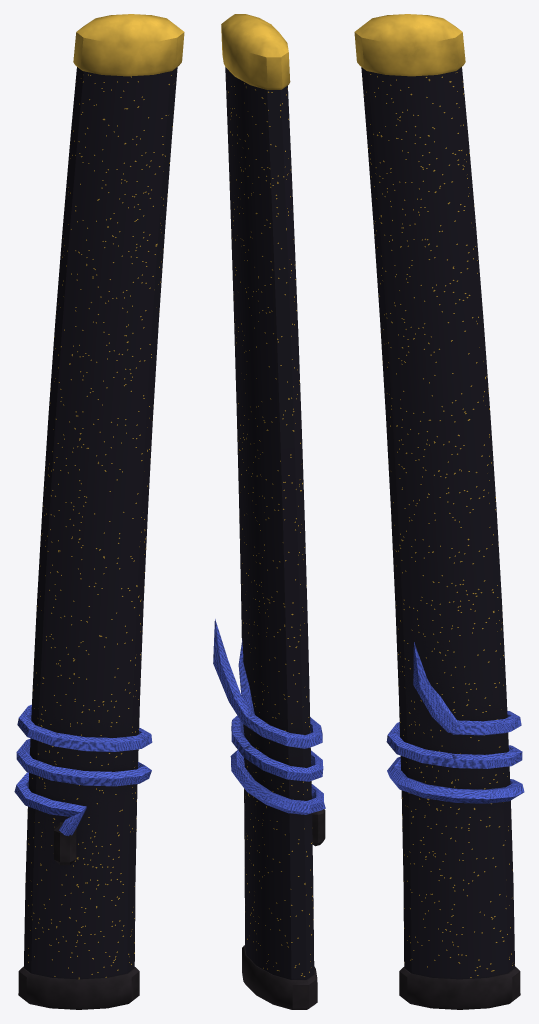
Rendered from katana_saya.fbx.
3 renders of one model, left to right at view 1: azimuth 90°, elevation 25°; view 2: azimuth 210°, elevation 25°; view 3: azimuth 270°, elevation 25°, orthographic. The views are drawn at different scales.
Parts seen in each view (by area): view 1: katana_saya; view 2: katana_saya; view 3: katana_saya.
Part boxes in pixels (x1,y1,x2,y2): katana_saya: [14, 14, 184, 1009]; katana_saya: [213, 14, 325, 1009]; katana_saya: [354, 14, 524, 1009].
Bounding box in the file's own units: 41.9 × 439 × 68.77.
1 material, 1 textured.
